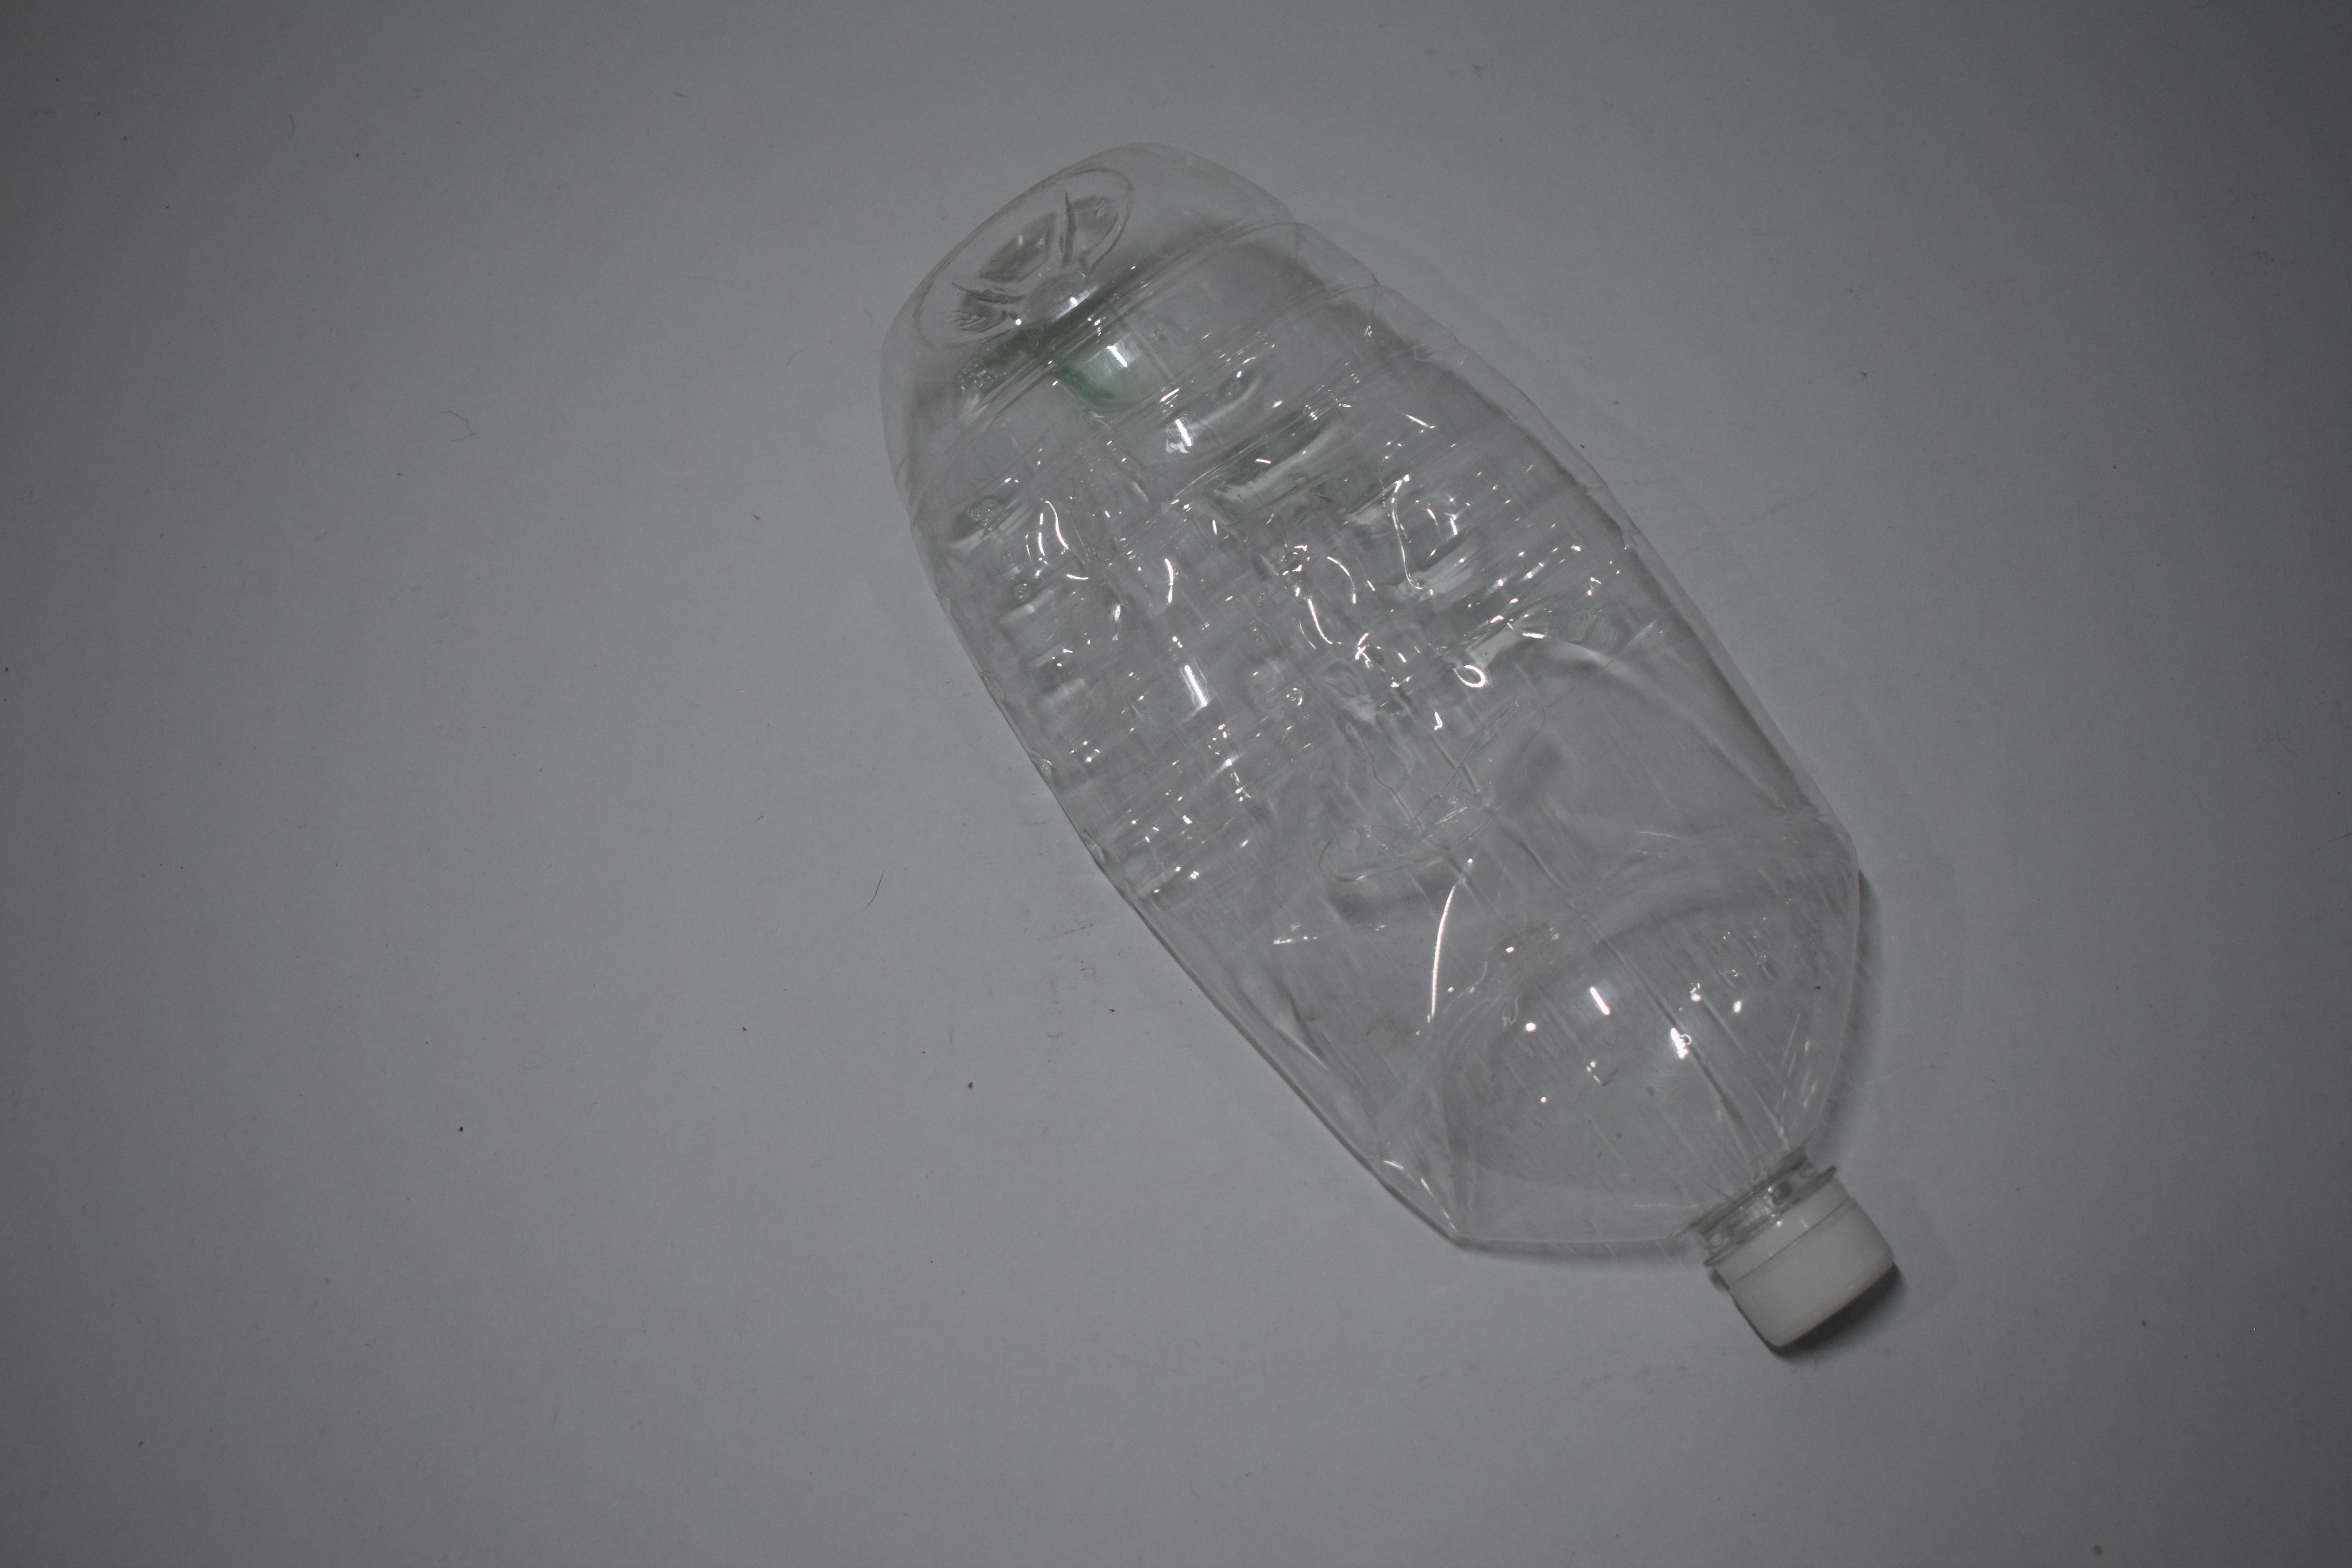bottle: (0, 145, 733, 1363)
